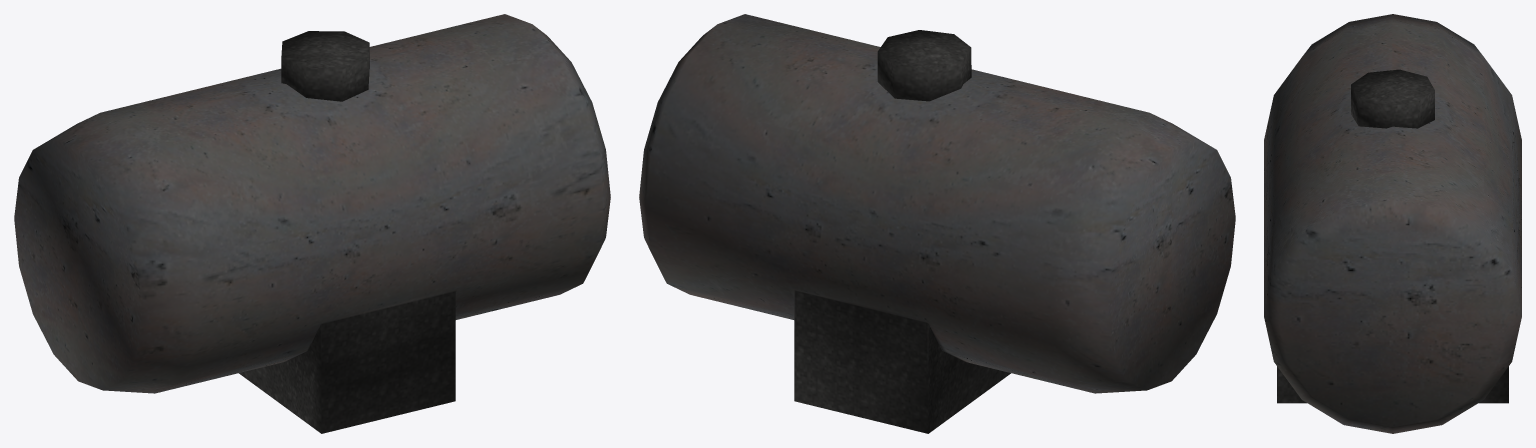
The model's file is cilindro2.glb.
The picture shows the model from 3 angles, left to right: view 1: azimuth 30°, elevation 25°; view 2: azimuth 150°, elevation 25°; view 3: azimuth 270°, elevation 25°; orthographic projection. The views are drawn at different scales.
Parts seen in each view (by area): view 1: Cylinder.003; view 2: Cylinder.003; view 3: Cylinder.003.
Boxes of the visible parts, box(x1,y1,x2,y2) form: Cylinder.003: box(14, 14, 610, 433); Cylinder.003: box(639, 14, 1235, 433); Cylinder.003: box(1264, 14, 1521, 433).
Bounding box in the file's own units: 4.33 × 2.86 × 2.29.
1 material, 1 textured.
